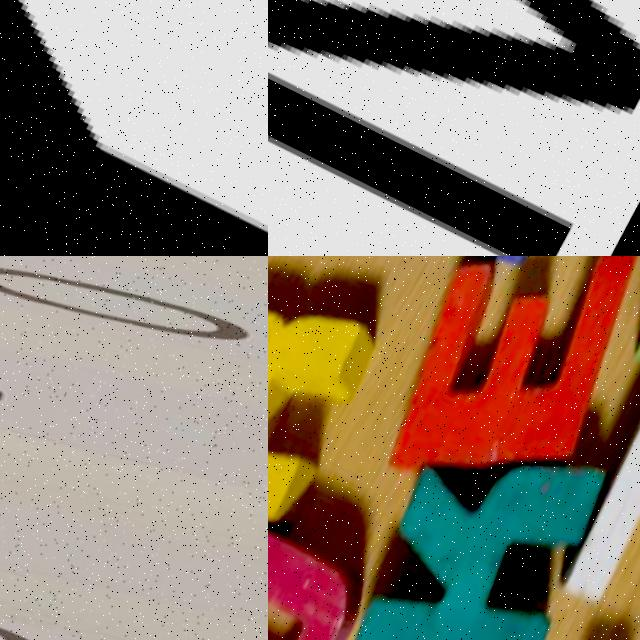0: (0, 256, 268, 412)
9: (0, 256, 268, 304)
E: (363, 256, 640, 524)
K: (326, 385, 640, 640)
M: (268, 0, 640, 256)
N: (345, 256, 606, 311)
R: (268, 256, 409, 562)
U: (268, 491, 408, 640)
Y: (0, 0, 268, 256)
Z: (537, 330, 640, 640)
